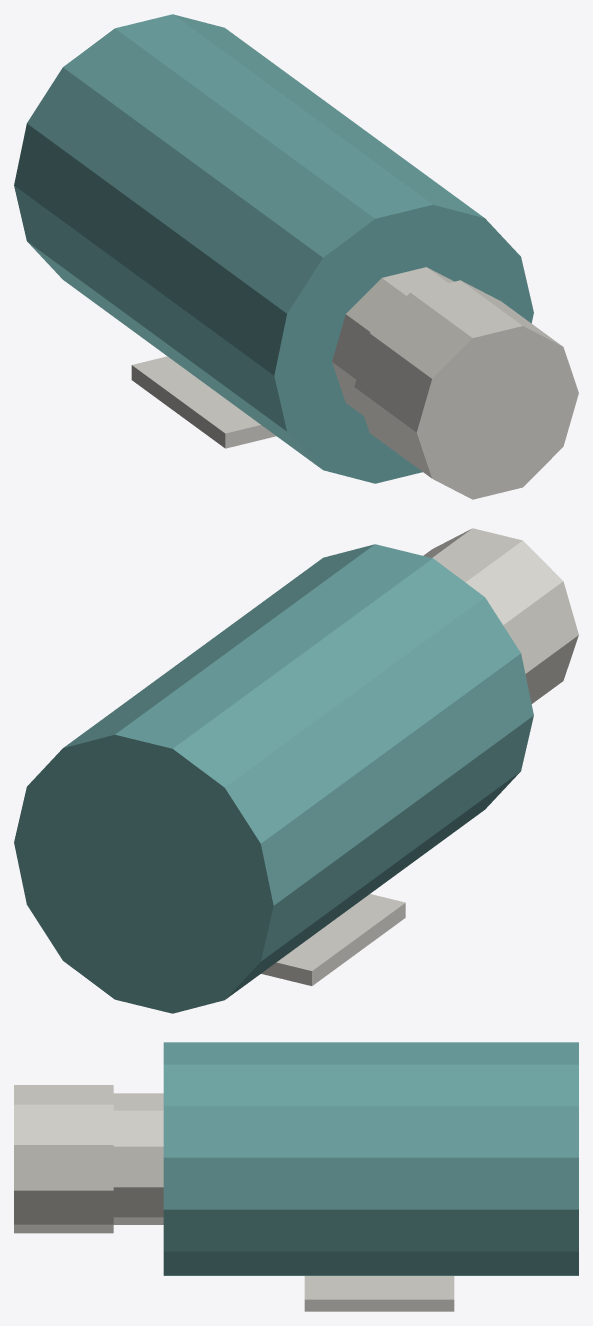
File: antiseptic.glb
3 renders of one model, top to bottom at view 1: azimuth 30°, elevation 25°; view 2: azimuth 150°, elevation 25°; view 3: azimuth 270°, elevation 25°, orthographic. The views are drawn at different scales.
Parts seen in each view (by area): view 1: 00_bottle, 02_cap, 03_label, 01_neck; view 2: 00_bottle, 02_cap, 03_label; view 3: 00_bottle, 02_cap, 01_neck, 03_label.
Part boxes in pixels (x1=…): 00_bottle: x1=14, y1=14, x2=533, y2=483; 02_cap: x1=354, y1=280, x2=578, y2=499; 03_label: x1=131, y1=356, x2=276, y2=448; 01_neck: x1=332, y1=267, x2=453, y2=415; 00_bottle: x1=14, y1=544, x2=533, y2=1013; 02_cap: x1=423, y1=528, x2=578, y2=703; 03_label: x1=261, y1=894, x2=405, y2=985; 00_bottle: x1=163, y1=1042, x2=578, y2=1275; 02_cap: x1=14, y1=1085, x2=113, y2=1233; 01_neck: x1=113, y1=1093, x2=163, y2=1224; 03_label: x1=304, y1=1276, x2=454, y2=1311.
Bounding box in the file's own units: 0.144 × 0.1532 × 0.34.
